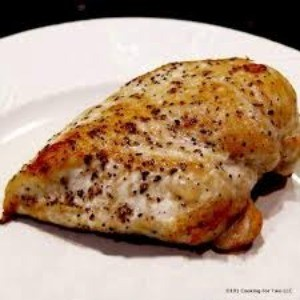chicken breast_brain food: (87, 104, 227, 213)
